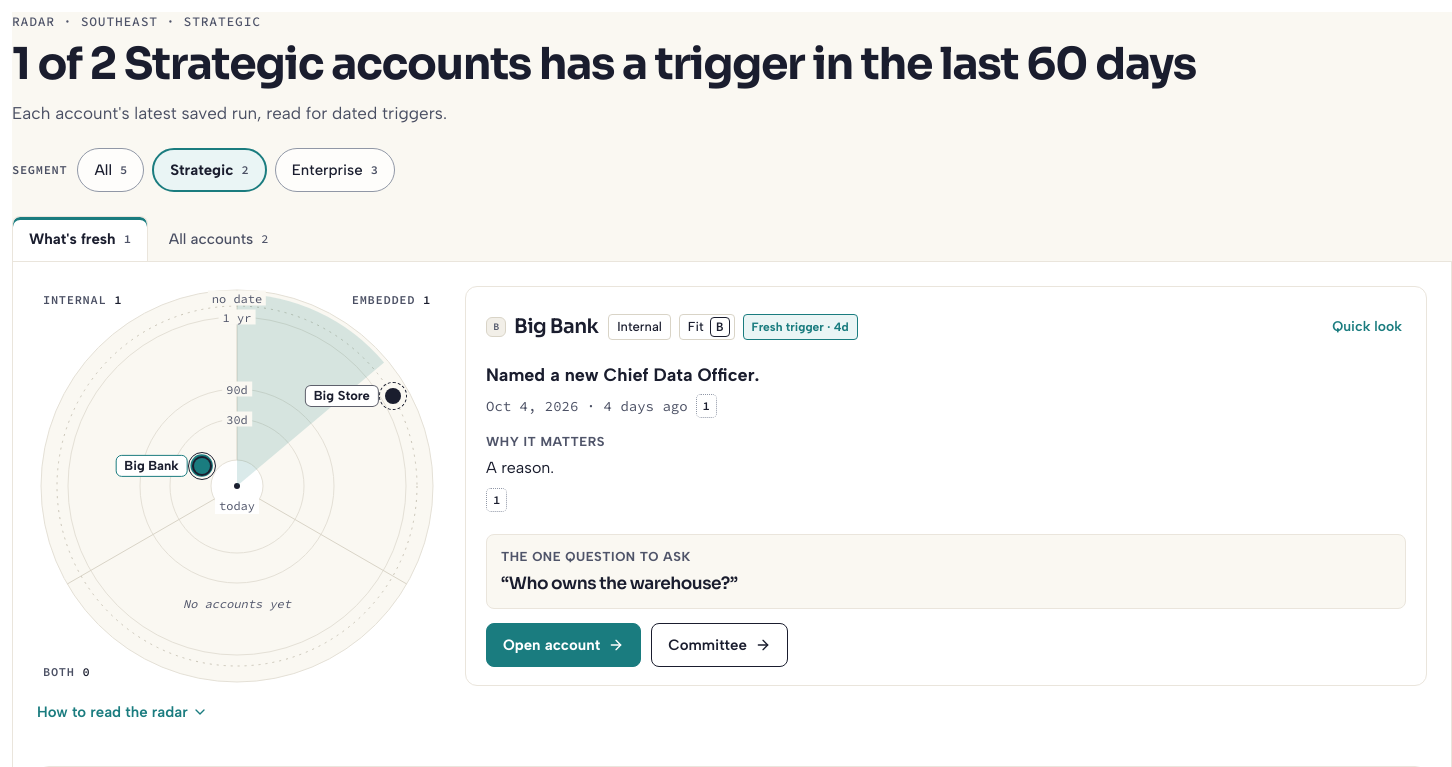
RadarModule segments › reads the segment from the URL and narrows every count to it
The image size is (1452, 767).
Expected: the radio button labelled "All 5" is shown, [78, 148, 144, 192]
Expected: the radio button labelled "Enterprise 3" is shown, [275, 148, 395, 192]
Click the button "How to read the radar".
click(122, 712)  # box [37, 690, 208, 734]
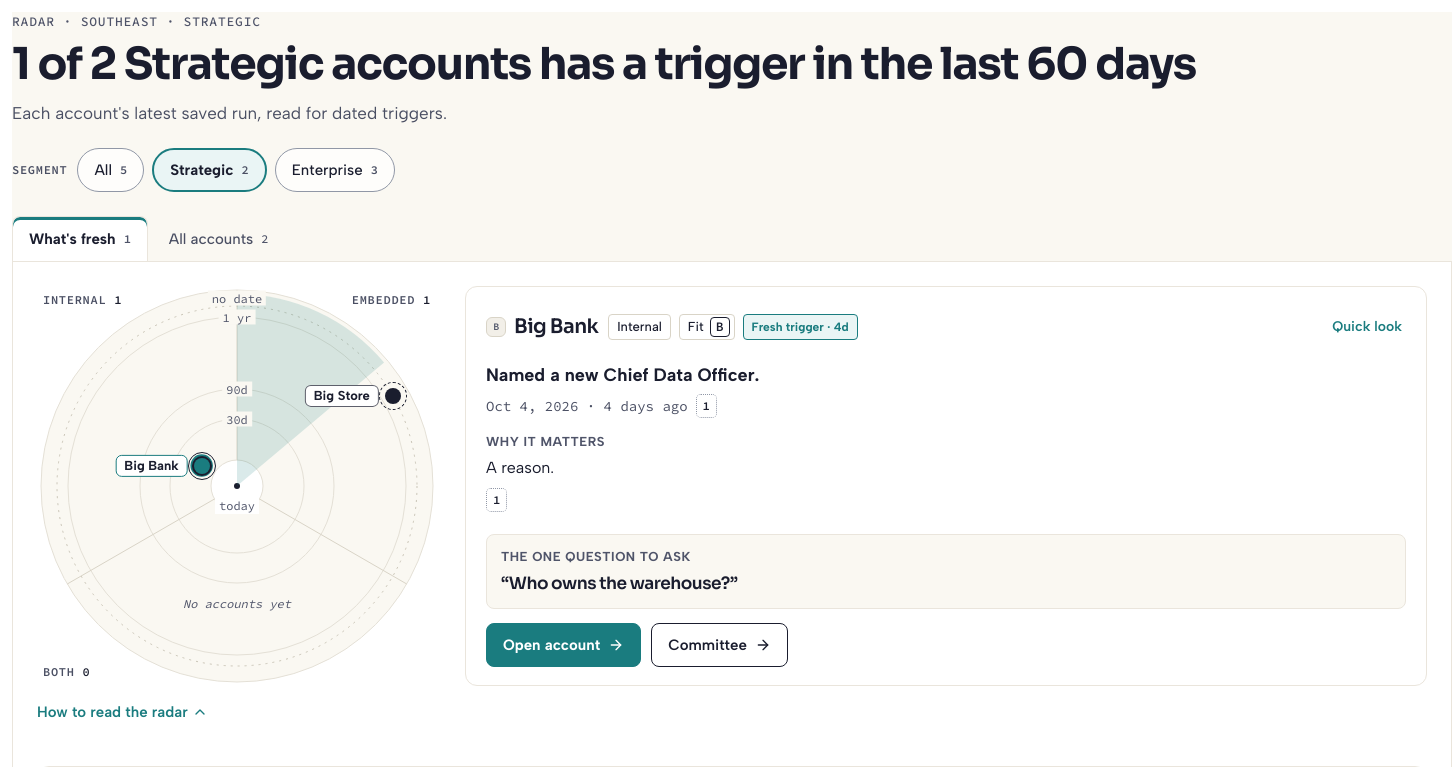
Click the radio button labelled "Enterprise 3".
click(335, 170)  # box [275, 148, 395, 192]
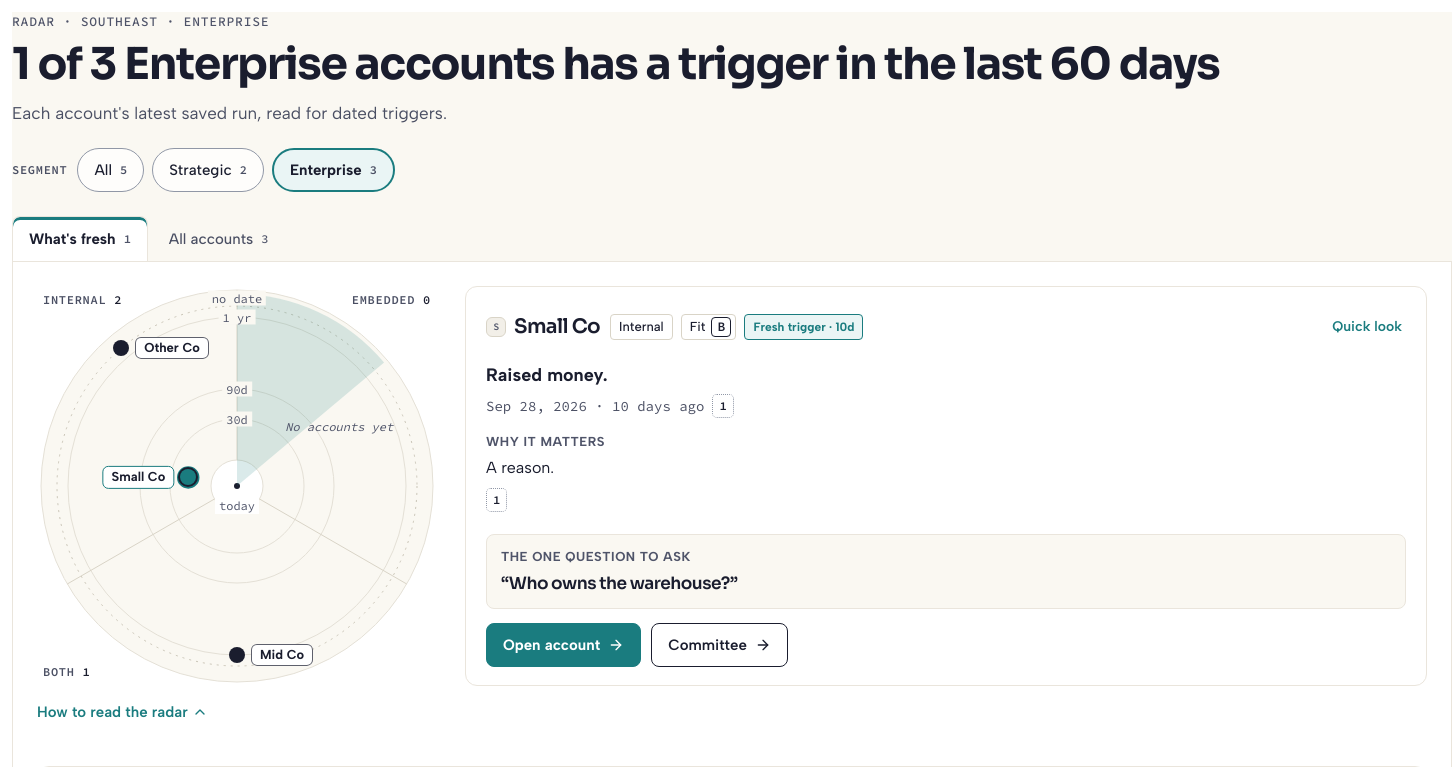
Now the heading "1 of 3 Enterprise accounts has a trigger in the last 60 days" is shown, box [12, 36, 1219, 92]
Now the number of buttons named " · " is 3, box [166, 455, 210, 499]; [99, 326, 143, 370]; [215, 633, 259, 677]
Press Home in the radio button labelled "Enterprise 3", box [272, 148, 395, 192]
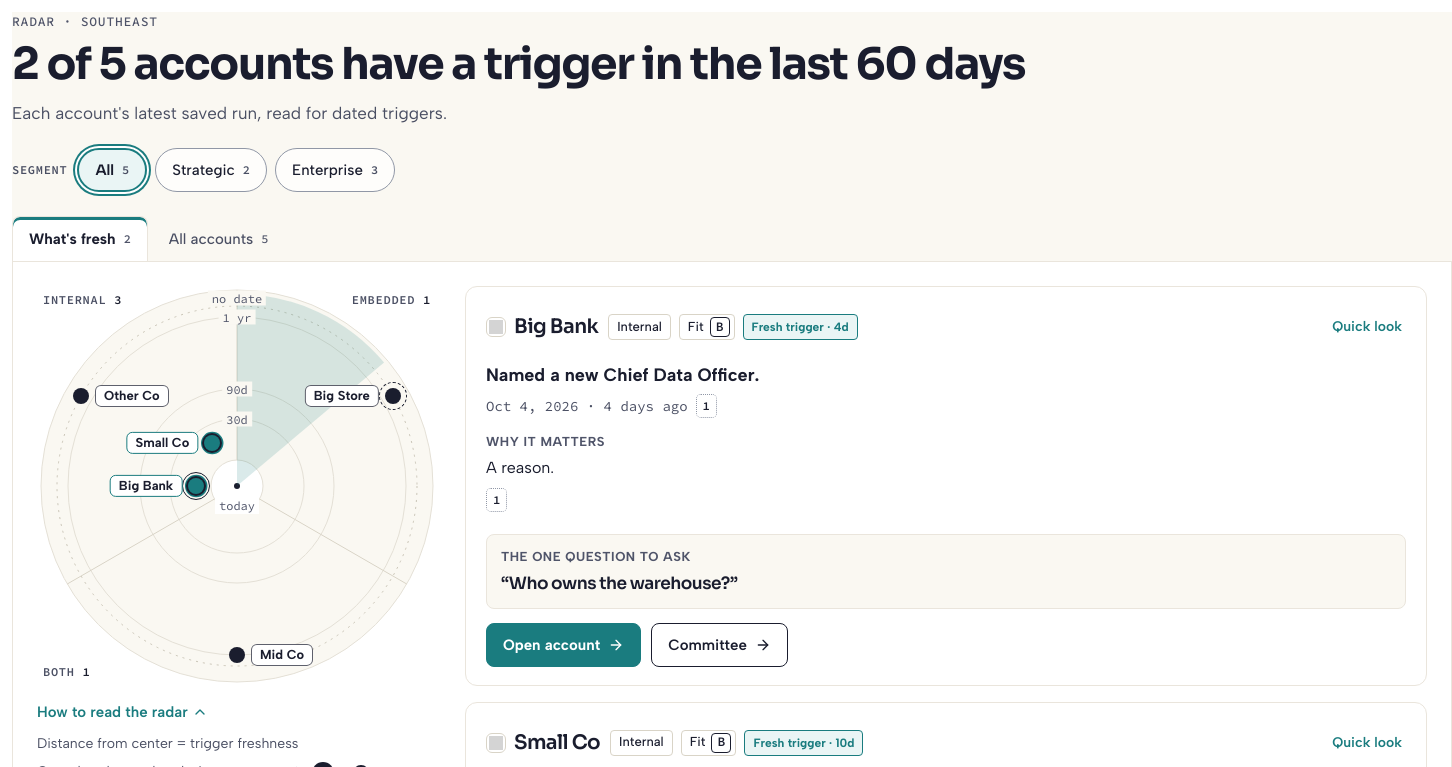
Now the heading "2 of 5 accounts have a trigger in the last 60 days" is shown, box [12, 36, 1025, 92]
